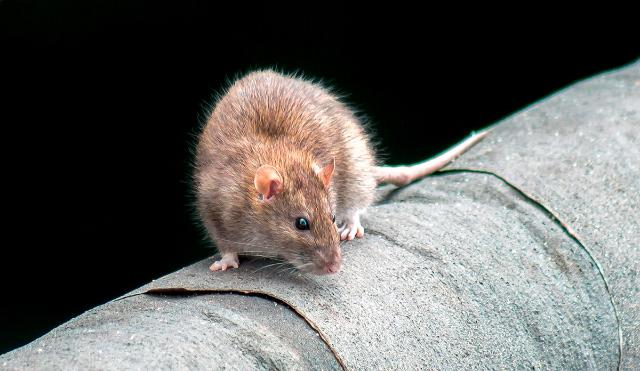rat: (182, 59, 428, 280)
